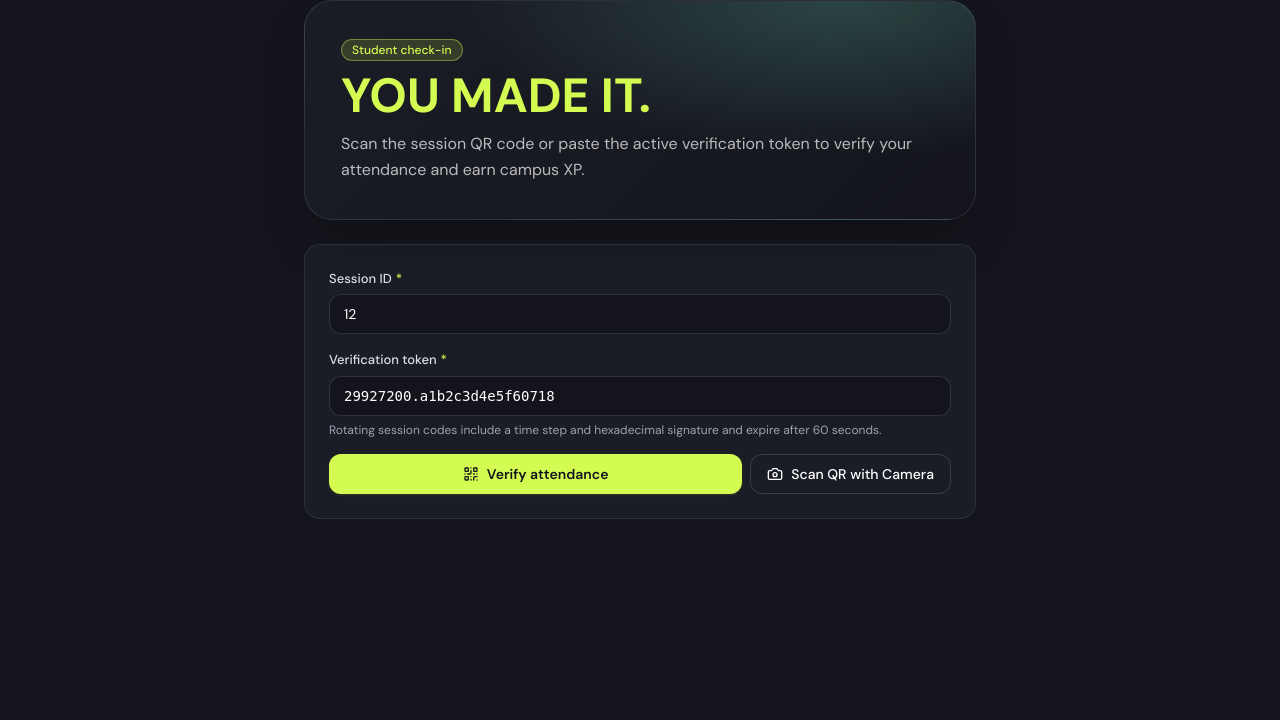
M3 — Organizations, Events & Live Attendance › submits full {step}.{hex} QR deep link token cleanly on StudentCheckInPage and handles 400/409 feedback
This screenshot has width=1280, height=720.
Expected: the field labelled "Verification token*" holds "29927200.a1b2c3d4e5f60718", [329,376,951,416]
Step 1. Click the button "Verify attendance" → click(536, 474), box [329,454,742,494]
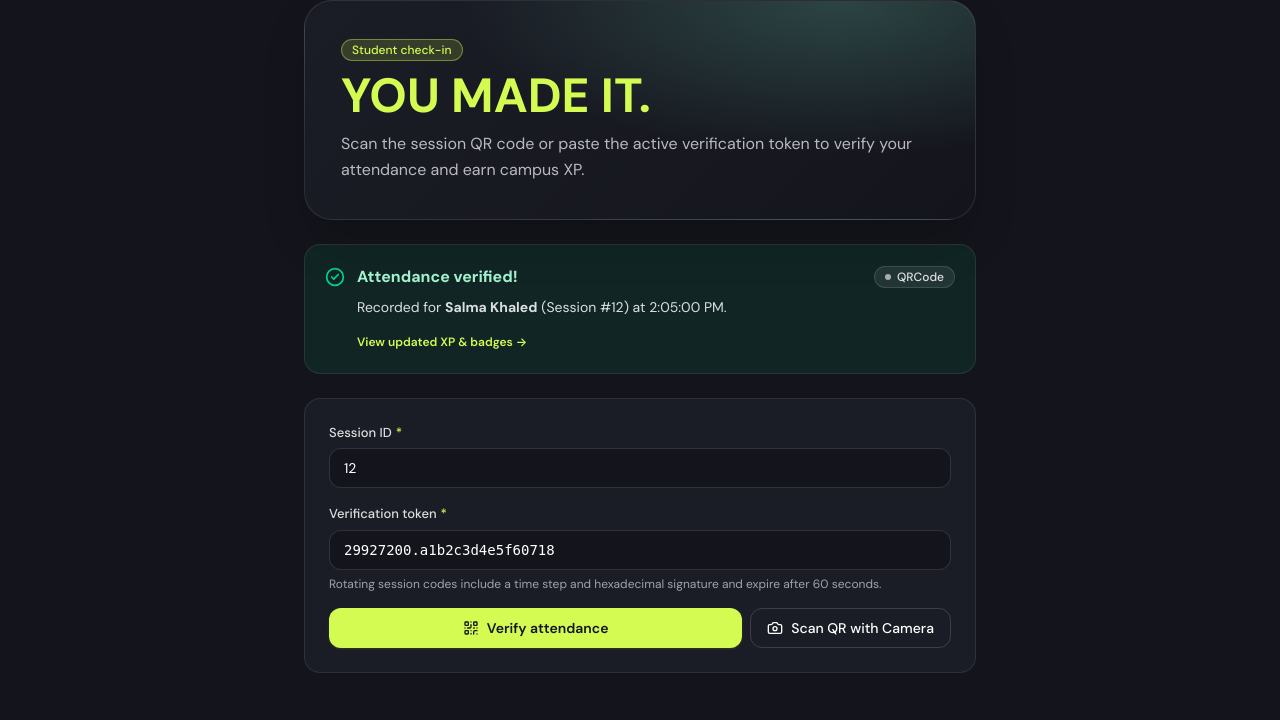
Result: the heading "Attendance verified!" is shown at [357,265,518,289]
Step 2. Click the button "Verify attendance" → click(536, 628), box [329,608,742,648]
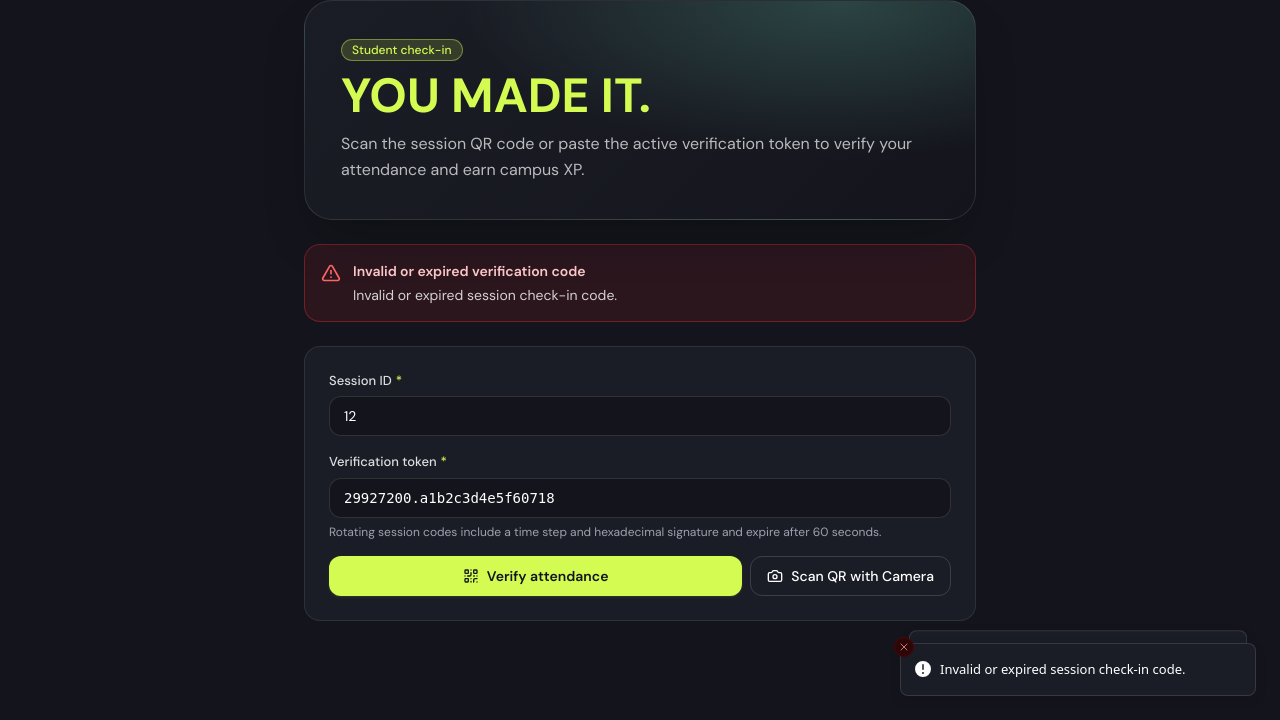
Result: the text "Invalid or expired verification code" is shown at [353,261,617,281]
